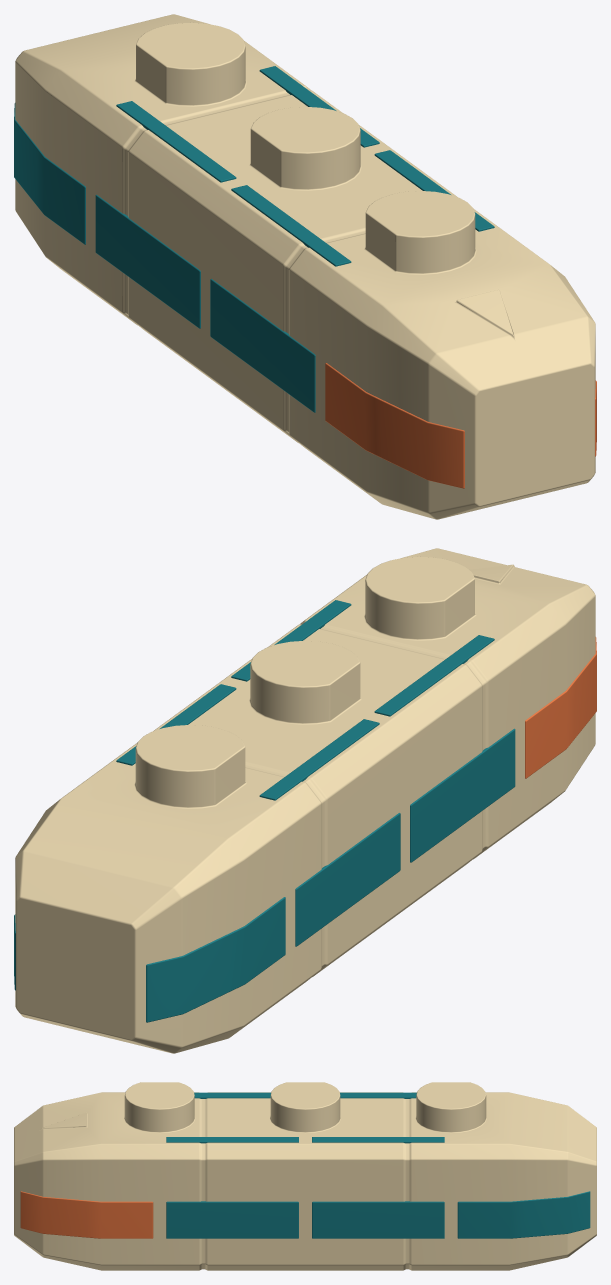
Rendered from pontoon-lod-0.glb.
3 renders of one model, top to bottom at view 1: azimuth 30°, elevation 25°; view 2: azimuth 150°, elevation 25°; view 3: azimuth 270°, elevation 25°, orthographic. The views are drawn at different scales.
Visible parts, largest first — view 1: pontoon_lod_0; view 2: pontoon_lod_0; view 3: pontoon_lod_0.
Part boxes in pixels (x1=…): pontoon_lod_0: x1=14, y1=14, x2=596, y2=519; pontoon_lod_0: x1=14, y1=548, x2=596, y2=1053; pontoon_lod_0: x1=14, y1=1082, x2=596, y2=1270.
Bounding box in the file's own units: 1.01 × 1.14 × 4.
